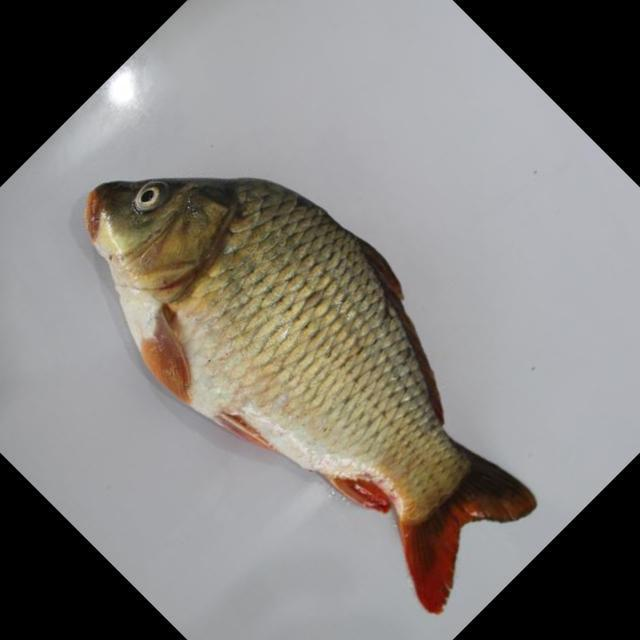CommonCarp: (79, 172, 546, 610)
